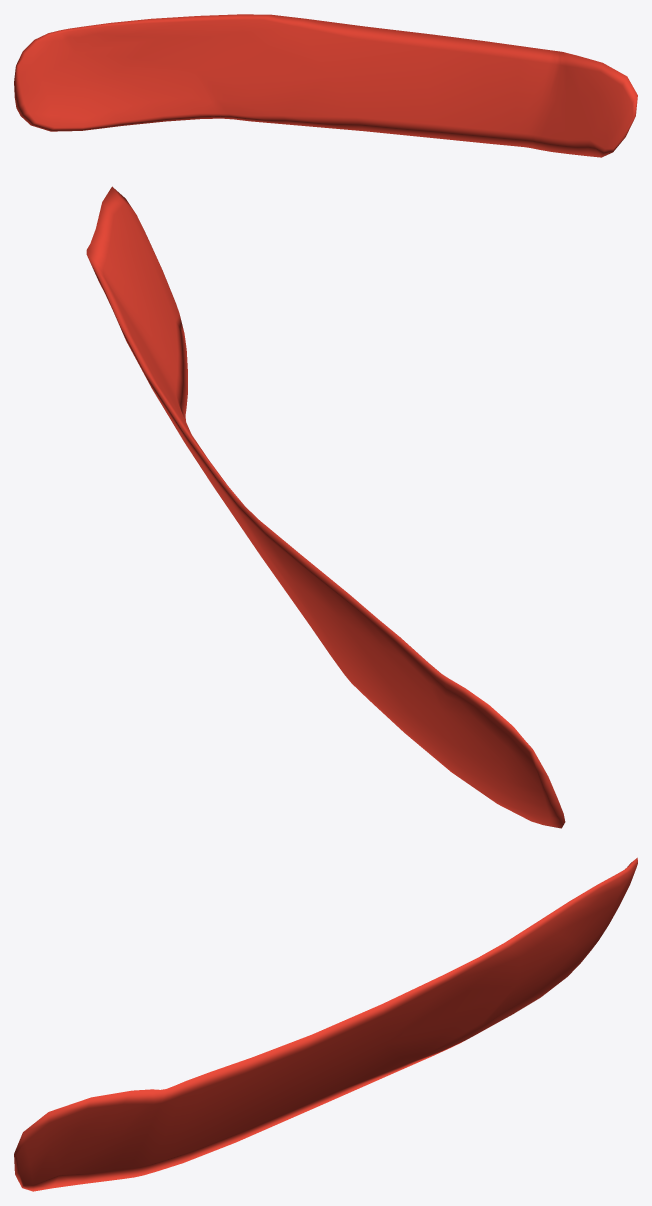
The model's file is Occipitalis-Occipital_insertion.l_Generated_Mesh_From_X3D.942.glb.
The picture shows the model from 3 angles, top to bottom: view 1: azimuth 30°, elevation 25°; view 2: azimuth 150°, elevation 25°; view 3: azimuth 270°, elevation 25°; orthographic projection. The views are drawn at different scales.
Visible parts, largest first — view 1: Occipitalis-Occipital_insertion.l_Generated_Mesh_From_X3D.94; view 2: Occipitalis-Occipital_insertion.l_Generated_Mesh_From_X3D.94; view 3: Occipitalis-Occipital_insertion.l_Generated_Mesh_From_X3D.94.
Part boxes in pixels (box(x1,y1,x2,y2)): Occipitalis-Occipital_insertion.l_Generated_Mesh_From_X3D.94: box(14, 14, 637, 157); Occipitalis-Occipital_insertion.l_Generated_Mesh_From_X3D.94: box(86, 186, 565, 828); Occipitalis-Occipital_insertion.l_Generated_Mesh_From_X3D.94: box(14, 857, 637, 1191).
Size of the model in its own units: 0.0443 by 0.00974 by 0.039.
